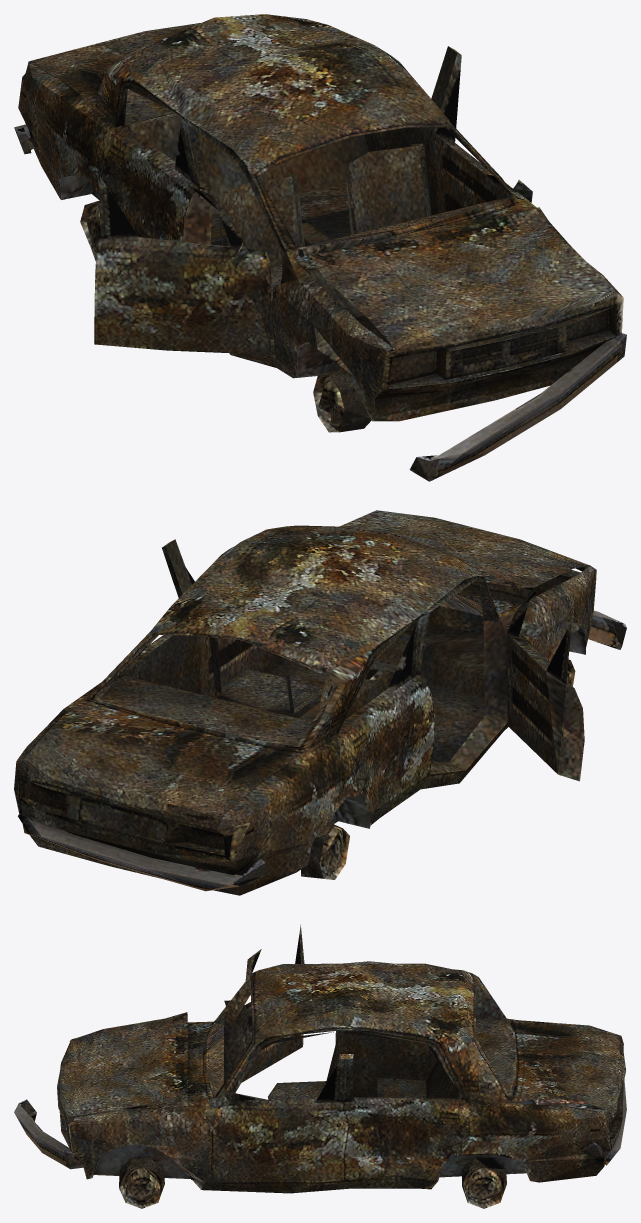
File: car_scrap.obj
The picture shows the model from 3 angles, top to bottom: view 1: azimuth 30°, elevation 25°; view 2: azimuth 150°, elevation 25°; view 3: azimuth 270°, elevation 25°; orthographic projection. The views are drawn at different scales.
Visible parts, largest first — view 1: car_scrap; view 2: car_scrap; view 3: car_scrap.
Boxes of the visible parts, x1,y1,x2,y2 form: car_scrap: (14, 14, 626, 481); car_scrap: (14, 510, 626, 895); car_scrap: (14, 924, 626, 1208).
Size of the model in its own units: 4.93 by 2.84 by 8.94.
